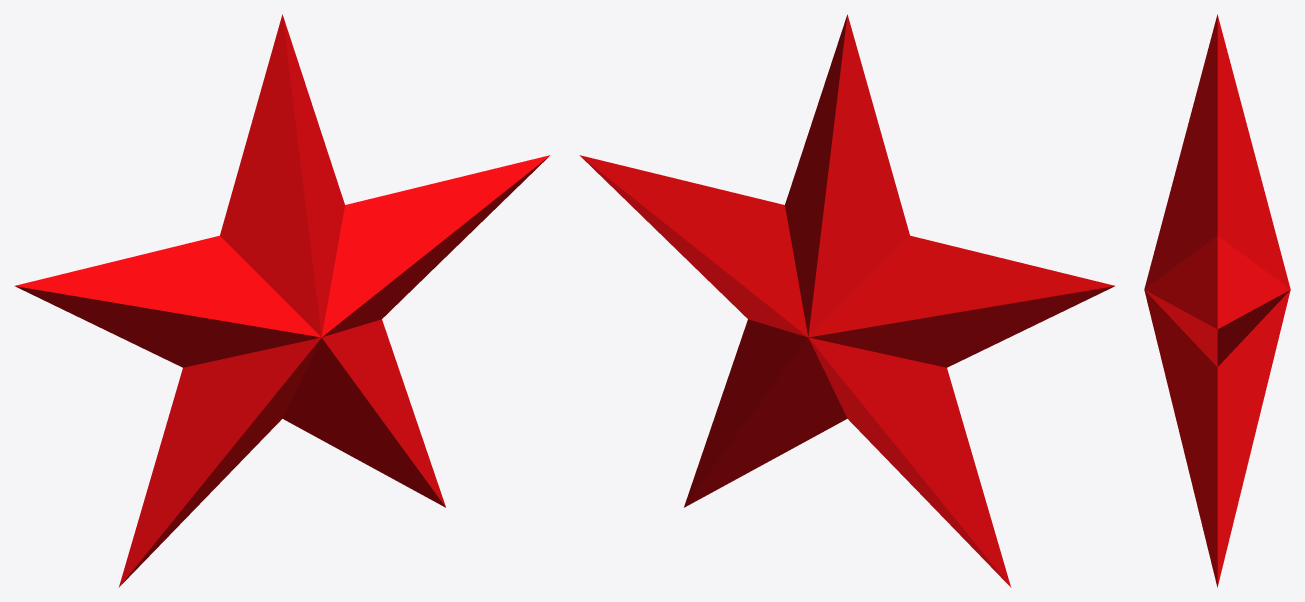
Rendered from zvezd.gltf.
3 renders of one model, left to right at view 1: azimuth 30°, elevation 25°; view 2: azimuth 150°, elevation 25°; view 3: azimuth 270°, elevation 25°, orthographic. The views are drawn at different scales.
Visible parts, largest first — view 1: Плоскость.001; view 2: Плоскость.001; view 3: Плоскость.001.
Part boxes in pixels (x1,y1,x2,y2): Плоскость.001: (15, 14, 550, 587); Плоскость.001: (579, 14, 1114, 587); Плоскость.001: (1144, 14, 1290, 587).
Size of the model in its own units: 8.7 by 8.28 by 2.2.
